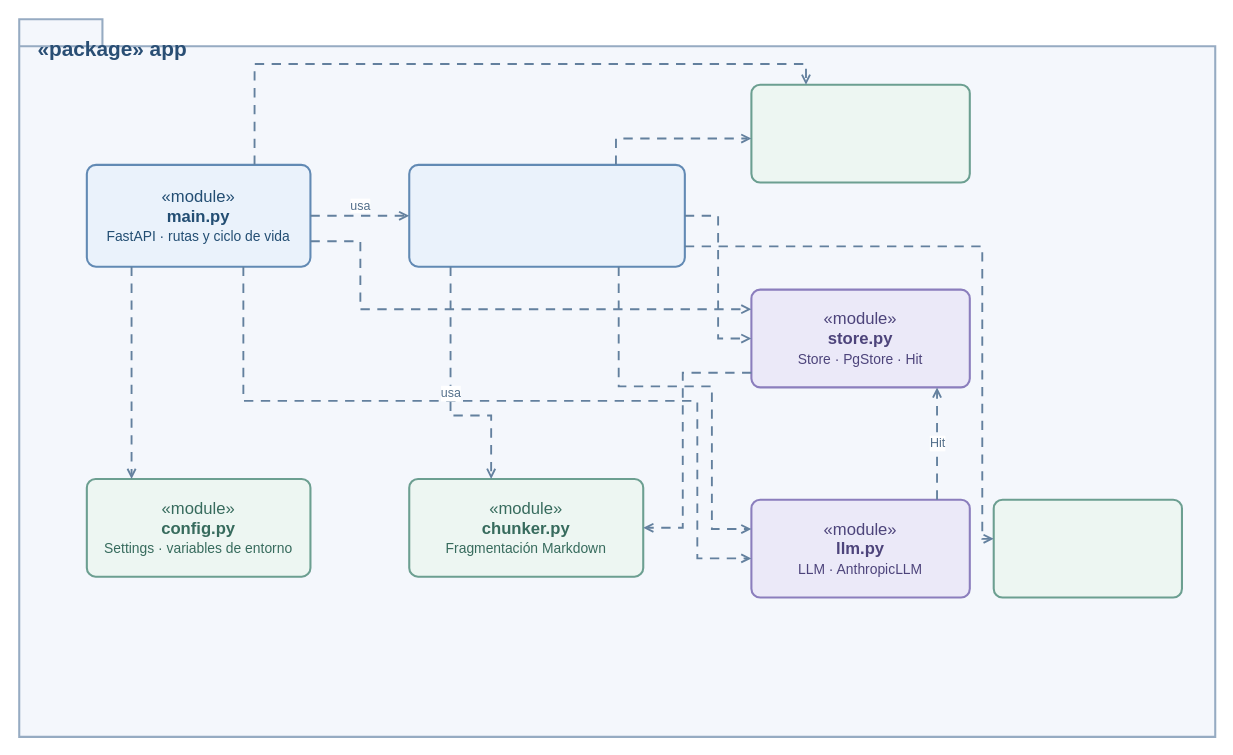
The diagram is 1233 pixels wide and 755 high, and some of its shapes have lost their labels. Each missing label, with the centre of its shape:
"«module» embedder.py Embedder · FastEmbedder local" goes at [860,133].
"«module» metrics.py Logs JSONL y marcas de tiempo" goes at [1087,548].
"«module» service.py RagService: indexación y consulta" goes at [546,215].
